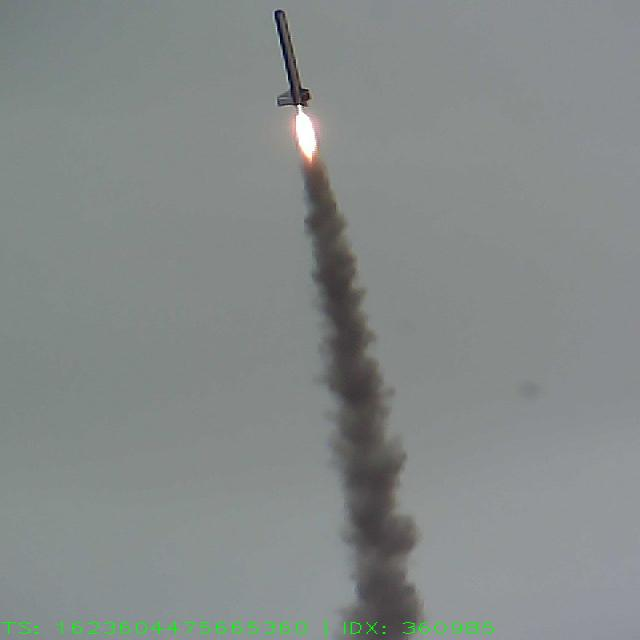Rocket: (272, 8, 312, 108)
